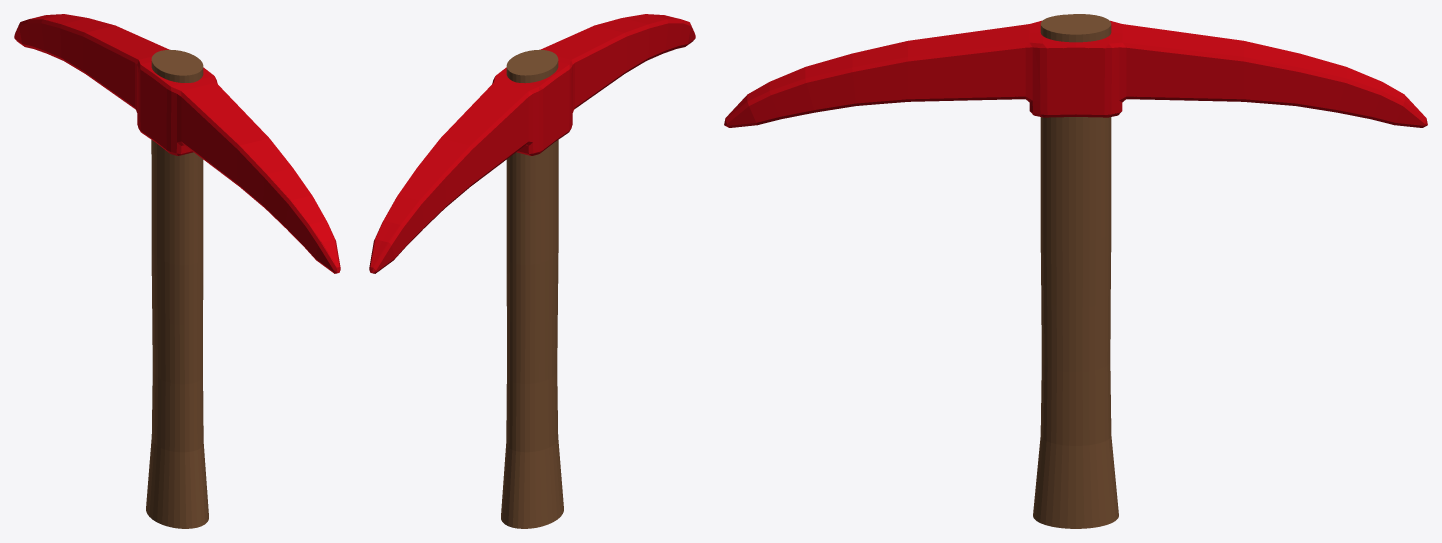
Rendered from PickaxeRuby.fbx.
The picture shows the model from 3 angles, left to right: view 1: azimuth 30°, elevation 25°; view 2: azimuth 150°, elevation 25°; view 3: azimuth 270°, elevation 25°; orthographic projection. The views are drawn at different scales.
Parts seen in each view (by area): view 1: Cylinder, Cube; view 2: Cylinder, Cube; view 3: Cube, Cylinder.
Part boxes in pixels (bbox=[...]): Cylinder: bbox=[146, 49, 208, 528]; Cube: bbox=[14, 14, 340, 273]; Cylinder: bbox=[501, 49, 563, 528]; Cube: bbox=[369, 14, 695, 273]; Cube: bbox=[724, 20, 1427, 127]; Cylinder: bbox=[1033, 14, 1118, 528].
Size of the model in its own units: 154 by 1339 by 1734.
